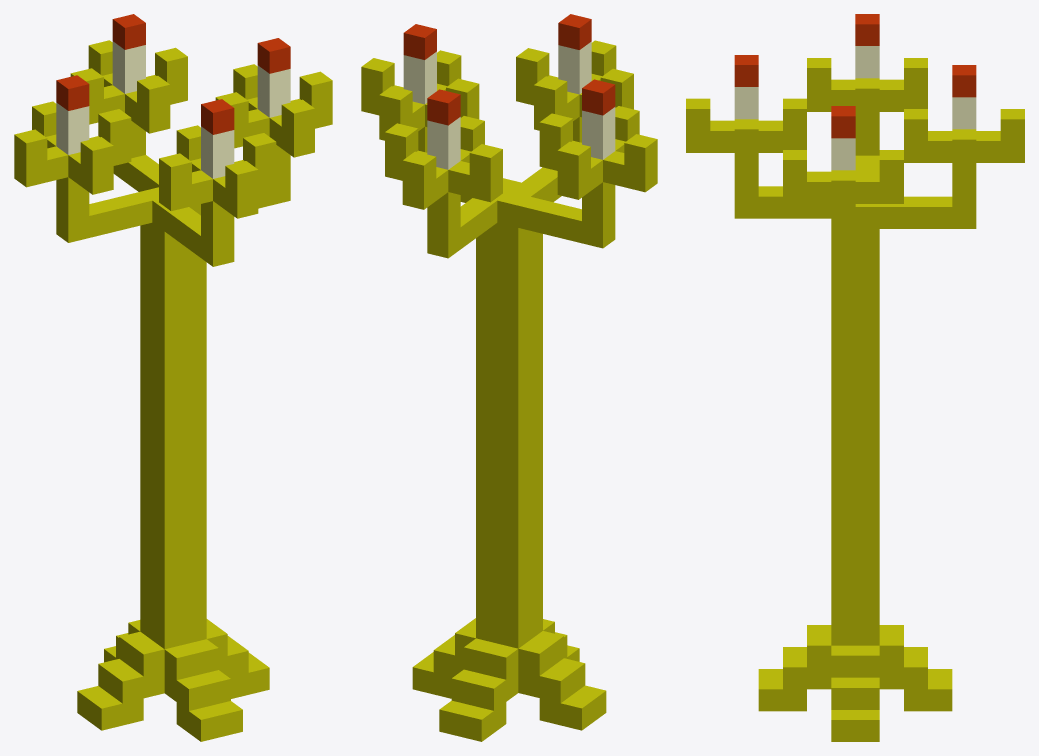
Rendered from candle_holder_tall.obj.
The picture shows the model from 3 angles, left to right: view 1: azimuth 30°, elevation 25°; view 2: azimuth 150°, elevation 25°; view 3: azimuth 270°, elevation 25°; orthographic projection.
Parts seen in each view (by area): view 1: candle_holder_tall; view 2: candle_holder_tall; view 3: candle_holder_tall.
Boxes of the visible parts, <box> form: candle_holder_tall: <box>14,14,332,741</box>; candle_holder_tall: <box>361,14,657,741</box>; candle_holder_tall: <box>686,14,1024,741</box>.
Bounding box in the file's own units: 14 × 29 × 14.
Materials: 1 (1 with a texture image).
